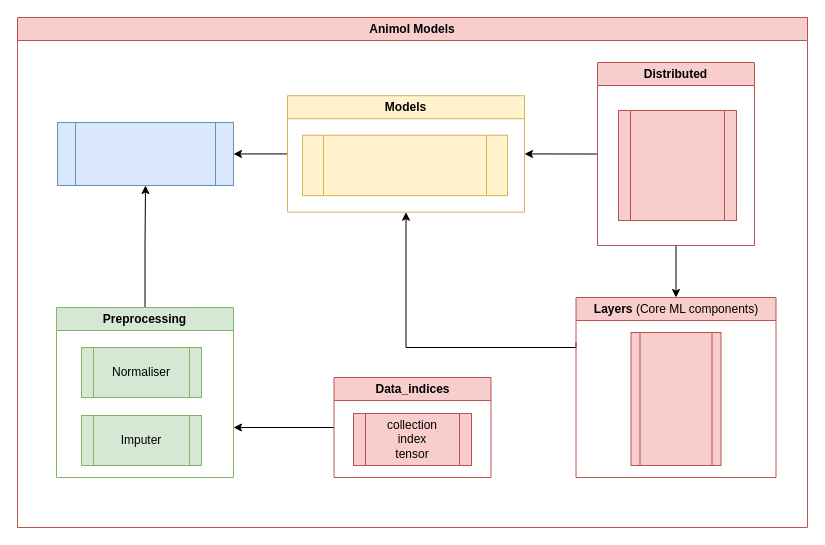
The diagram is 825 pixels wide and 545 high, and some of its shapes have lost their labels. Each missing label, with the centre of its shape:
AnemoiModelForecastInterface: the point at 145,154
encoder_processor_decoder: the point at 405,165
graph primitives shapes transformer khop_edges: the point at 677,165
mlp conv mapper graph processor chunk block attention: the point at 675,399
